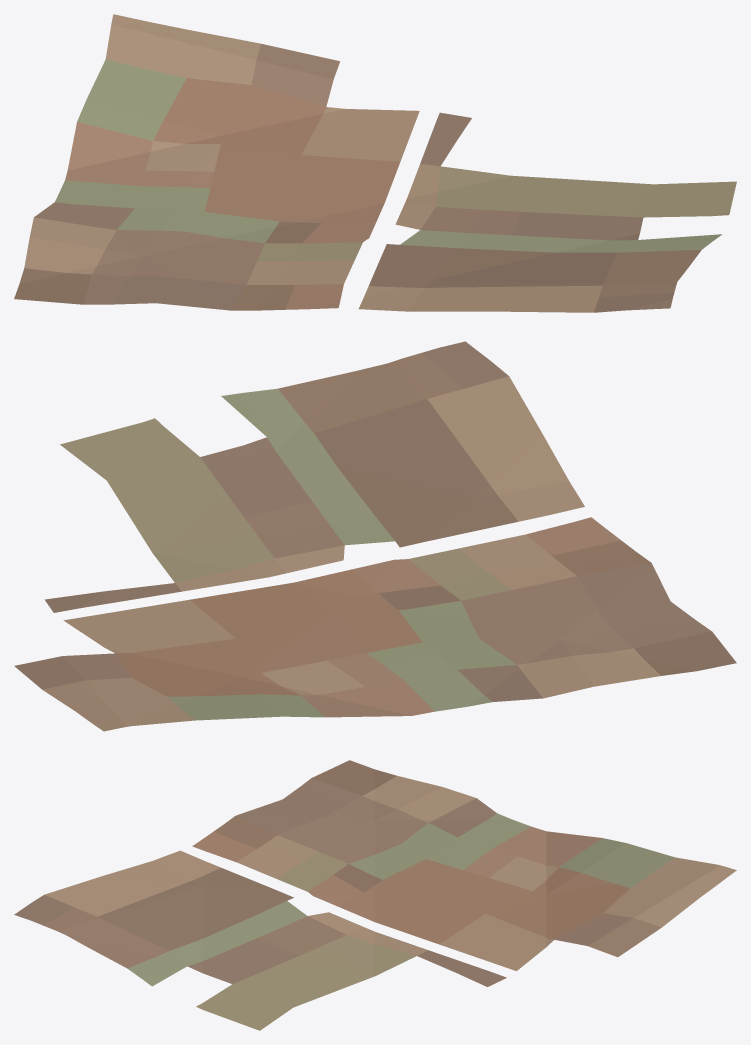
The model's file is farm_-2_15_soil.glb.
The picture shows the model from 3 angles, top to bottom: view 1: azimuth 30°, elevation 25°; view 2: azimuth 150°, elevation 25°; view 3: azimuth 270°, elevation 25°; orthographic projection. The views are drawn at different scales.
Visible parts, largest first — view 1: geometry_0; view 2: geometry_0; view 3: geometry_0.
Boxes of the visible parts, x1,y1,x2,y2 form: geometry_0: [14, 14, 736, 312]; geometry_0: [14, 341, 736, 731]; geometry_0: [14, 760, 736, 1030].
Size of the model in its own units: 294 by 18.69 by 337.
